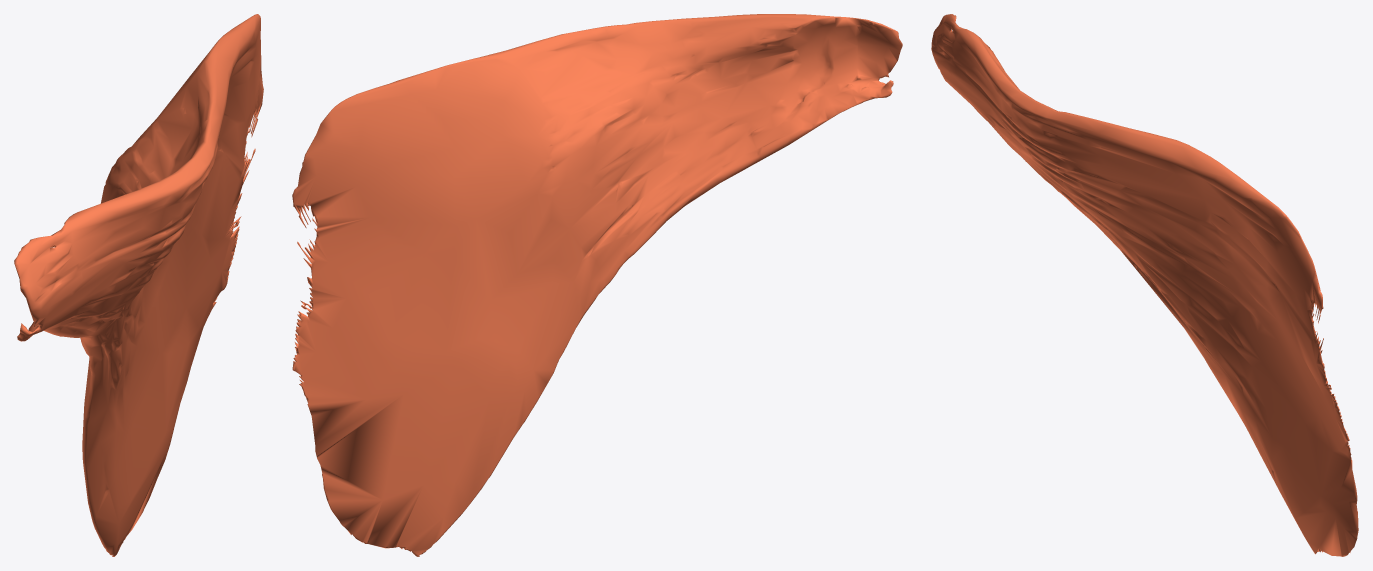
Rendered from Subscapular_muscle.r_Generated_Mesh_From_X3D.186.glb.
The picture shows the model from 3 angles, left to right: view 1: azimuth 30°, elevation 25°; view 2: azimuth 150°, elevation 25°; view 3: azimuth 270°, elevation 25°; orthographic projection. The views are drawn at different scales.
Parts seen in each view (by area): view 1: Subscapular_muscle.r_Generated_Mesh_From_X3D.186; view 2: Subscapular_muscle.r_Generated_Mesh_From_X3D.186; view 3: Subscapular_muscle.r_Generated_Mesh_From_X3D.186.
Part boxes in pixels (x1,y1,x2,y2): Subscapular_muscle.r_Generated_Mesh_From_X3D.186: [14, 14, 263, 556]; Subscapular_muscle.r_Generated_Mesh_From_X3D.186: [292, 14, 902, 556]; Subscapular_muscle.r_Generated_Mesh_From_X3D.186: [931, 14, 1358, 556].
Size of the model in its own units: 0.105 by 0.1146 by 0.1049.
